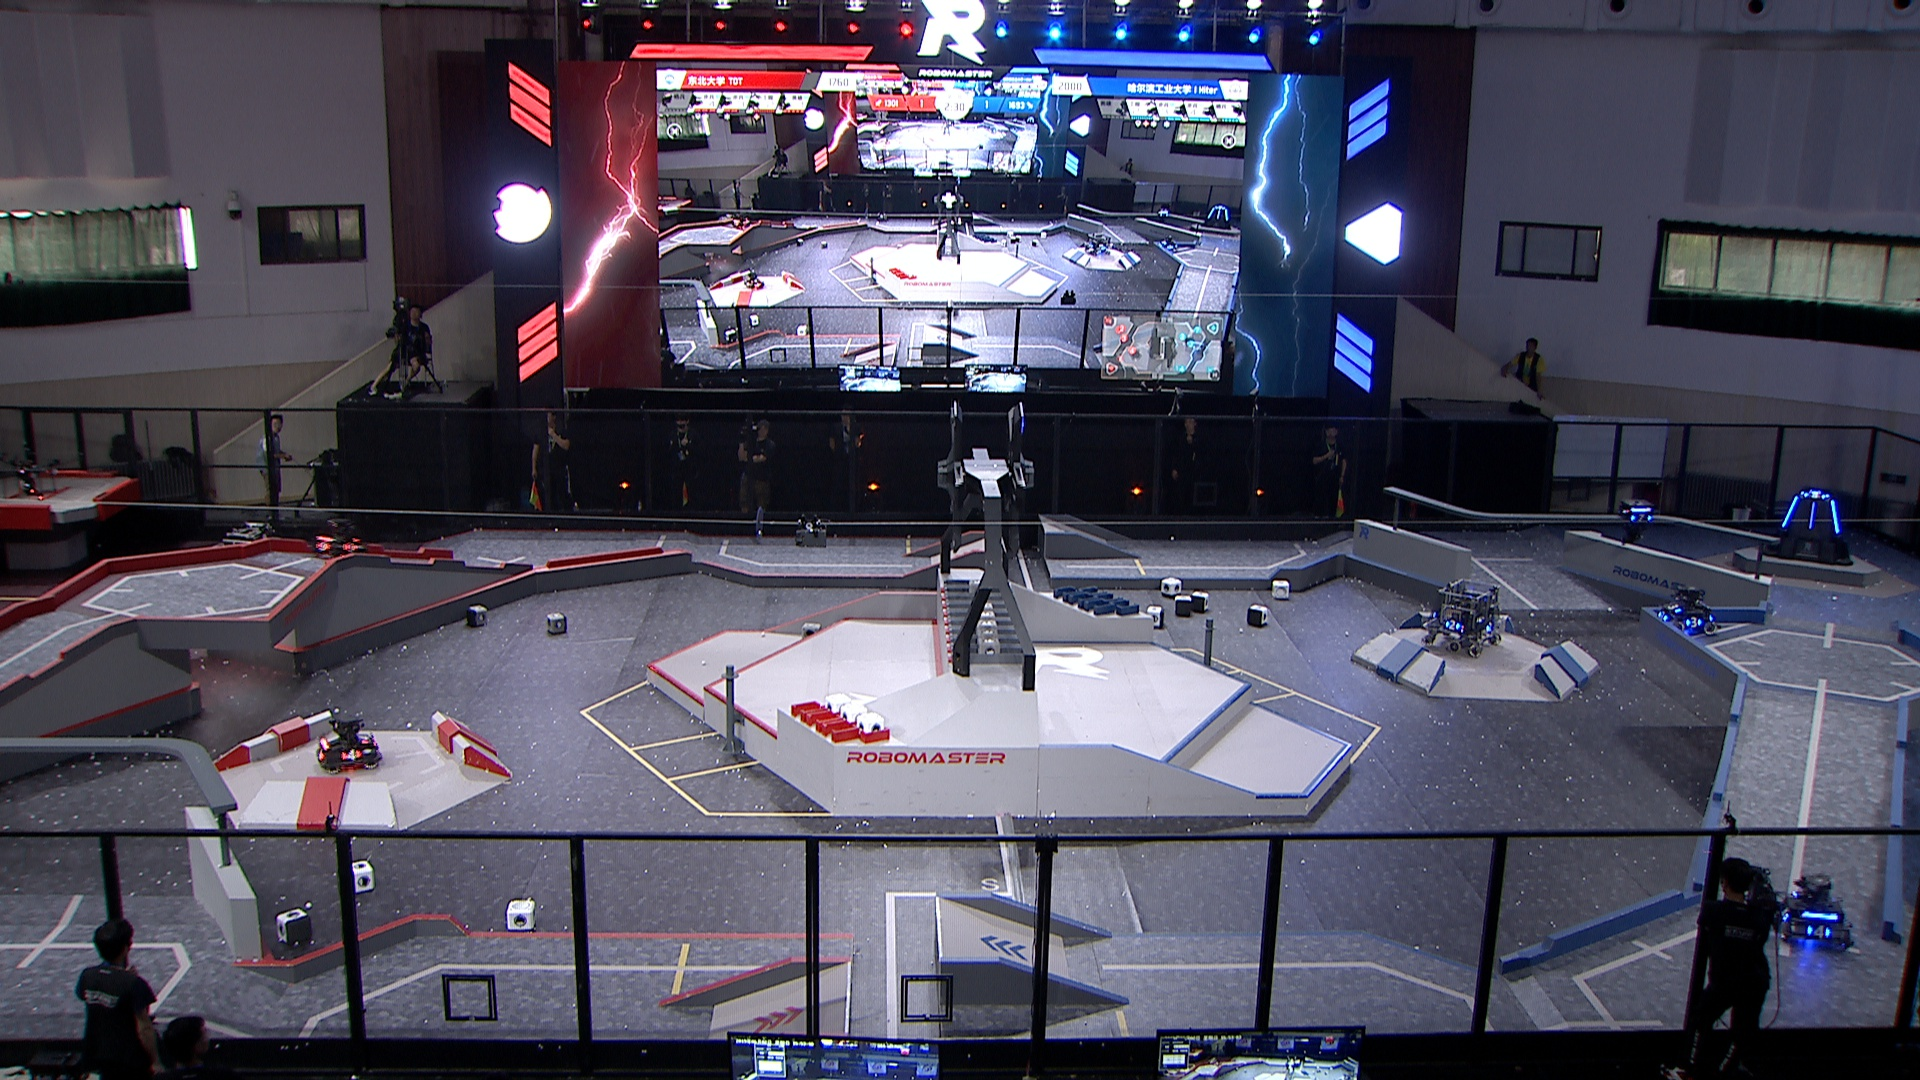armor: (1779, 493, 1799, 529), (1826, 496, 1841, 537), (1803, 920, 1832, 939), (1803, 498, 1818, 531), (338, 538, 363, 553), (338, 746, 363, 761), (1629, 510, 1655, 524), (1803, 488, 1826, 502), (313, 537, 332, 553), (1443, 616, 1462, 632), (353, 728, 371, 745), (1778, 905, 1792, 924), (1665, 599, 1681, 616), (1681, 615, 1702, 626), (313, 742, 327, 760), (1481, 618, 1495, 636), (1656, 608, 1673, 622)
base: (1760, 483, 1859, 567)
car: (195, 520, 289, 605), (1418, 574, 1505, 659), (1771, 869, 1855, 956), (309, 712, 386, 775), (1652, 583, 1718, 637), (309, 514, 371, 564)
ignore: (1077, 229, 1116, 256), (1201, 204, 1233, 229), (742, 268, 766, 291), (1160, 235, 1178, 253)
watcher: (1615, 495, 1659, 543)
